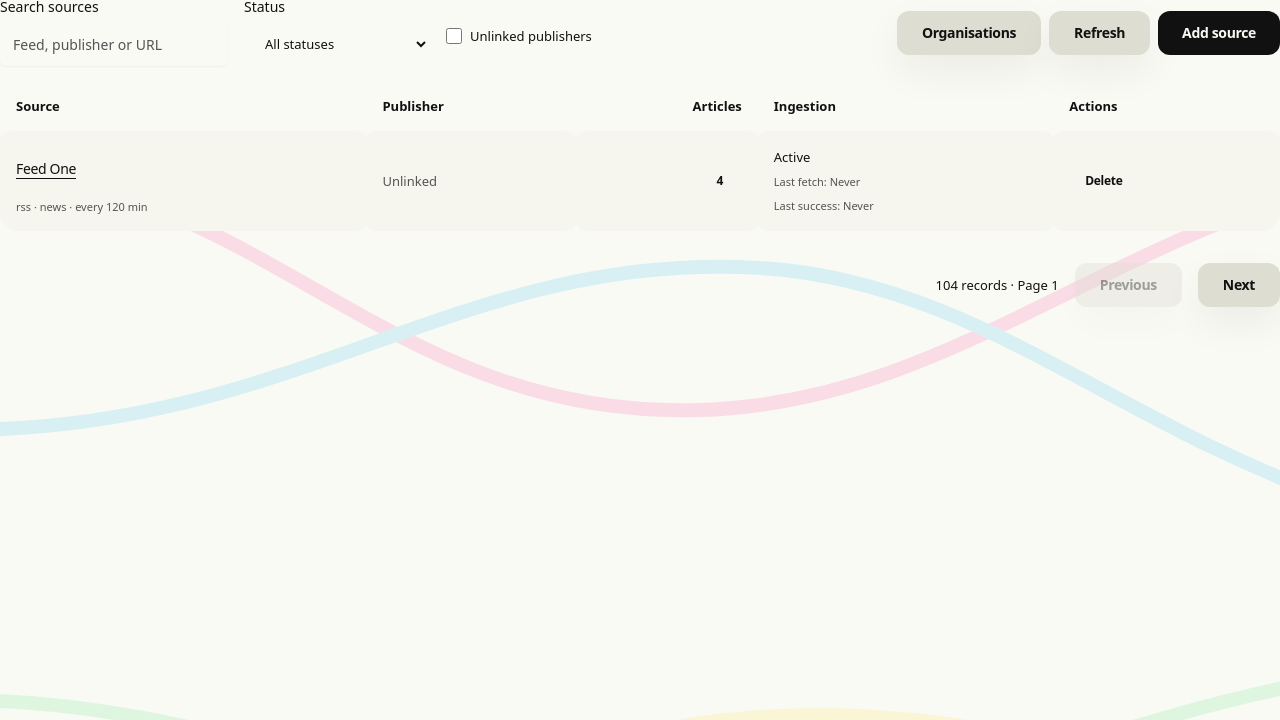
Test: News source workspace › never assigns a domain suggestion automatically
Click the button with aria-label "Edit Feed One".
click(46, 168)  # box [16,146,76,190]
(page scrolled)
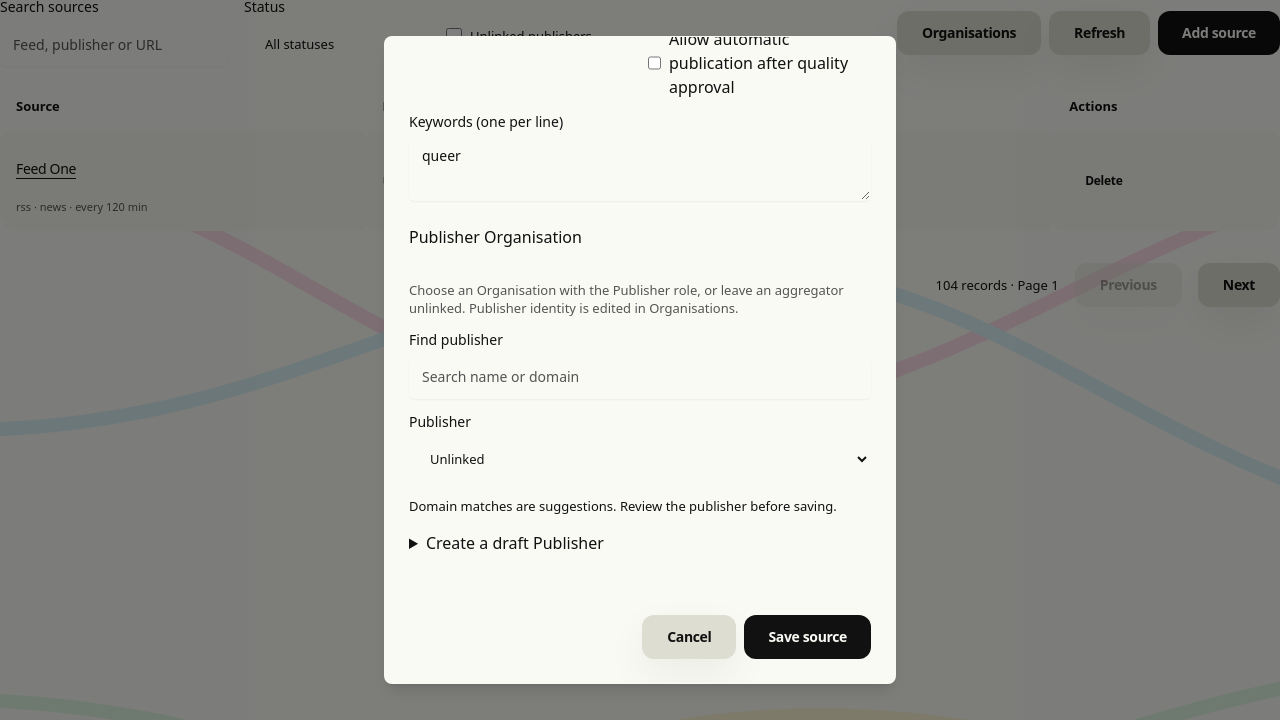
Now the dropdown labelled "Publisher" shows "Unlinked", box [409,437,871,481]
Now the text "Domain matches are suggestions" is shown, box [409,497,837,515]
